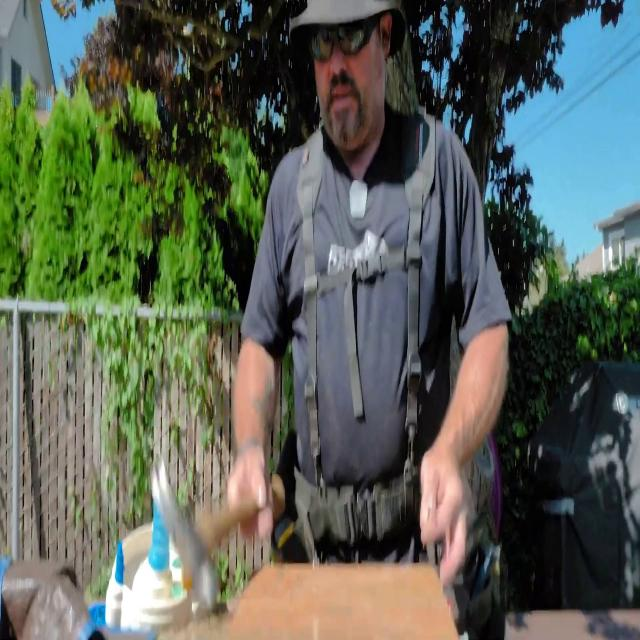hammer: (150, 457, 260, 611)
